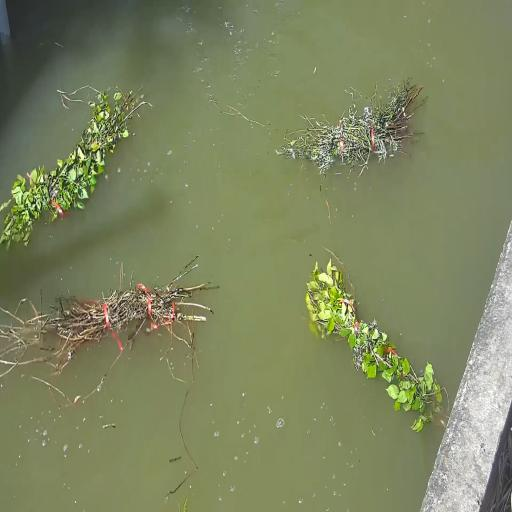twig: (3, 92, 125, 262), (0, 276, 206, 373), (303, 263, 432, 410), (295, 85, 405, 169)
